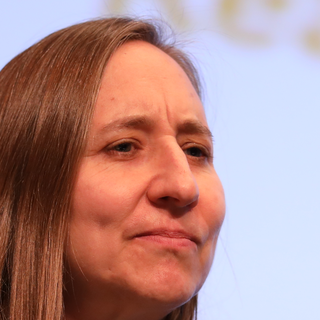eye: (96, 135, 144, 157), (176, 139, 214, 163)
